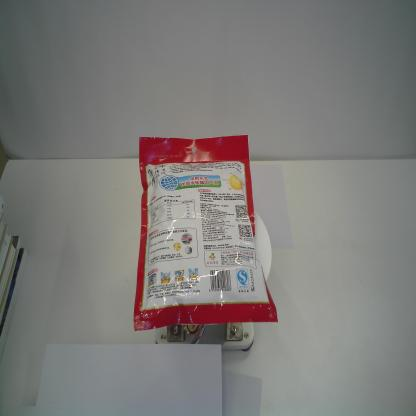Instant Drink: (132, 133, 280, 334)
